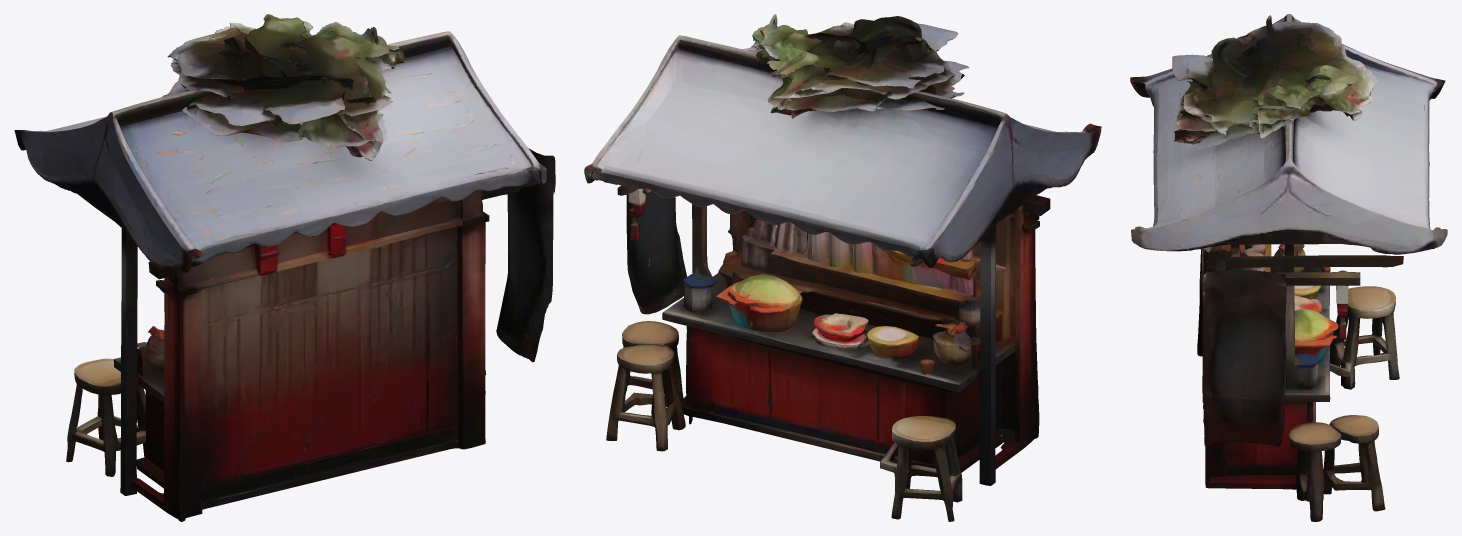
The model's file is prop_kurogane_stall.fbx.
3 renders of one model, left to right at view 1: azimuth 30°, elevation 25°; view 2: azimuth 150°, elevation 25°; view 3: azimuth 270°, elevation 25°, orthographic. The views are drawn at different scales.
Visible parts, largest first — view 1: geometry_0; view 2: geometry_0; view 3: geometry_0.
Boxes of the visible parts, x1,y1,x2,y2 form: geometry_0: (14,14,555,521); geometry_0: (584,14,1101,521); geometry_0: (1130,14,1447,521).
Bounding box in the file's own units: 0.9819 × 0.9927 × 0.7462.
